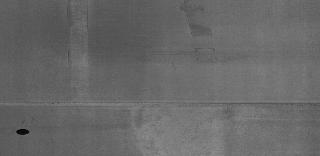punching hole: (13, 127, 33, 137)
rolled pit: (63, 1, 95, 96), (181, 0, 221, 64)
welding line: (2, 98, 318, 110)
